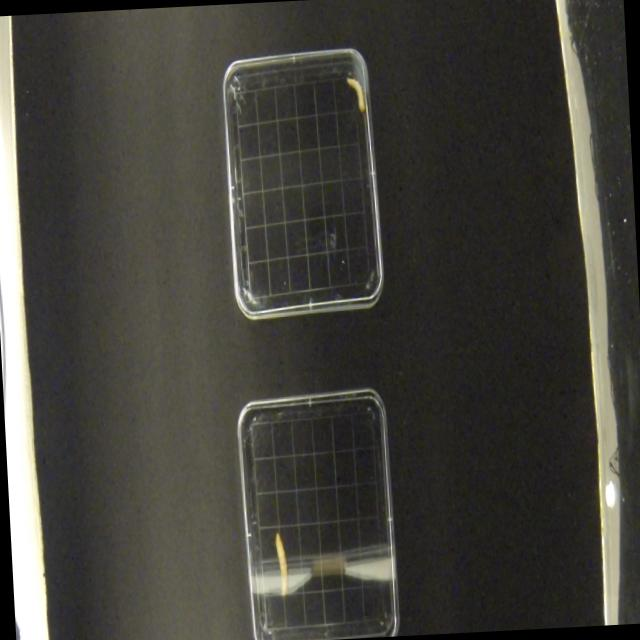larva: (347, 75, 368, 120), (274, 532, 288, 598)
